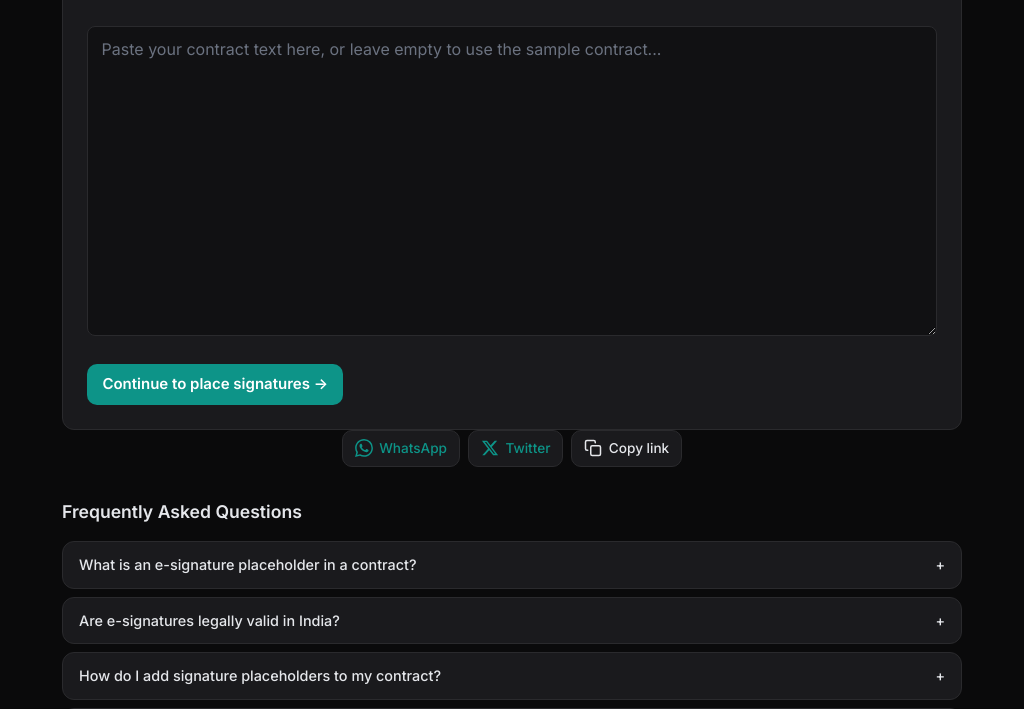
it: ESignaturePlaceholderPage › shows sample contract in preview when no text pasted
(page scrolled)
Click the button "Continue to place signatures →" at [215, 385], box x1=87 y1=364 x2=343 y2=405
(page scrolled)
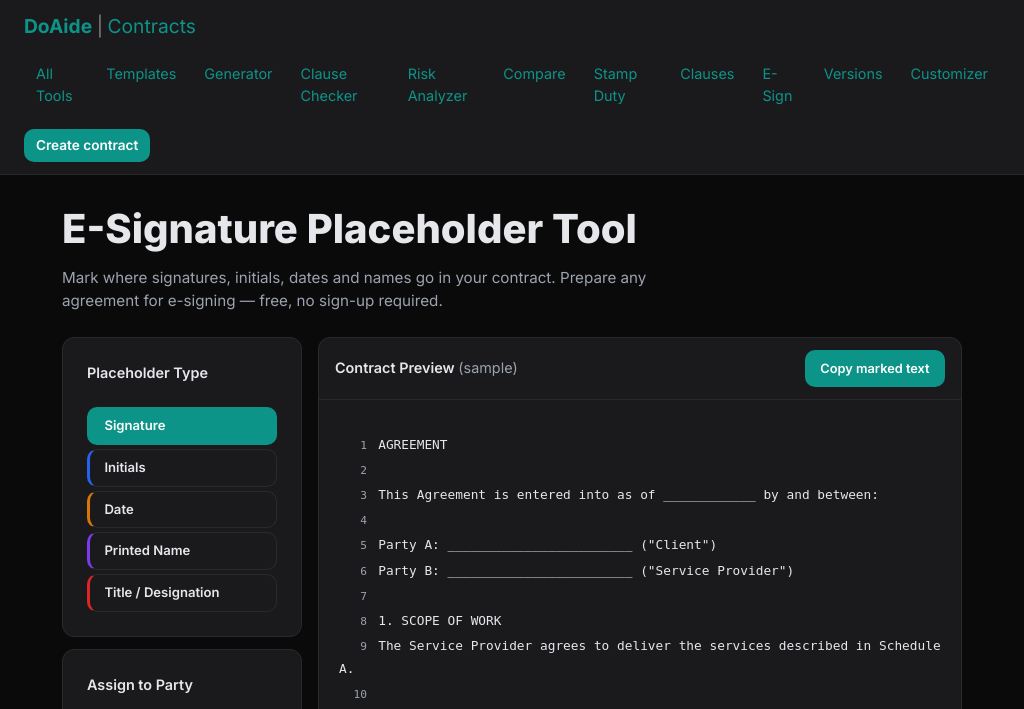
Check: the button "1 AGREEMENT" is shown, box x1=360 y1=437 x2=448 y2=452
Check: the text "(sample)" is shown, box x1=458 y1=359 x2=518 y2=376
